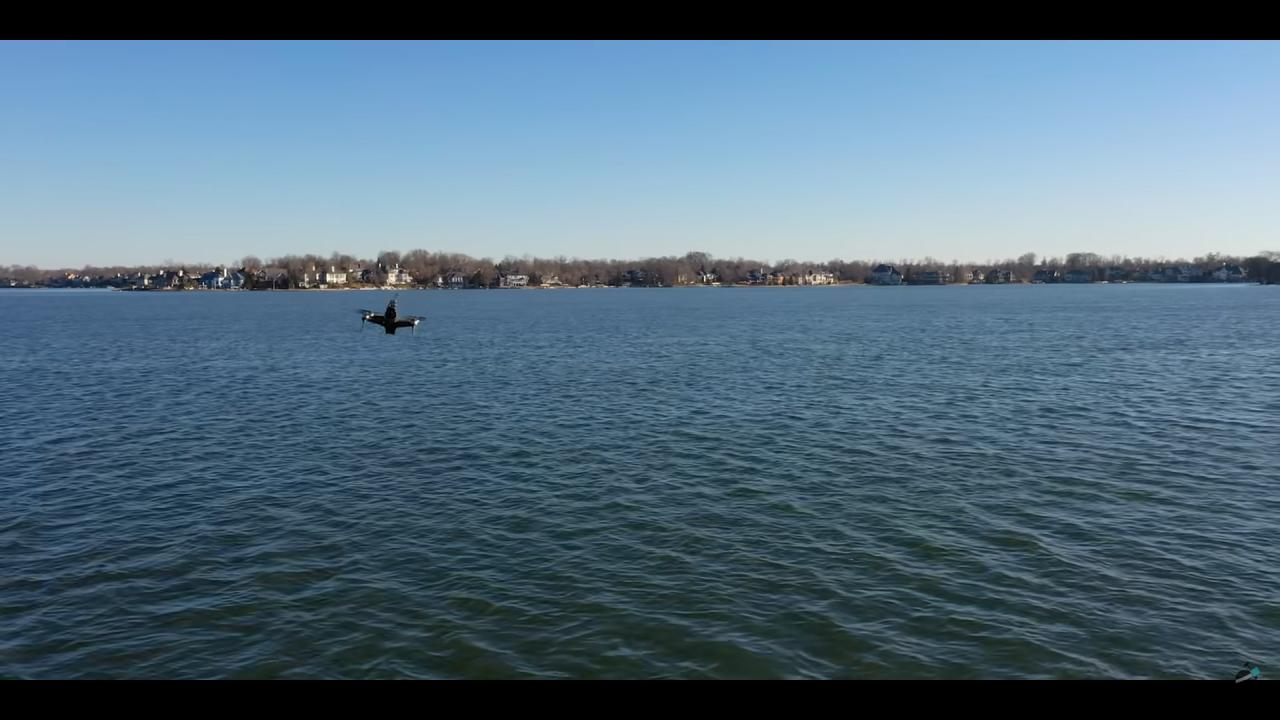Drone: (348, 289, 438, 351)
